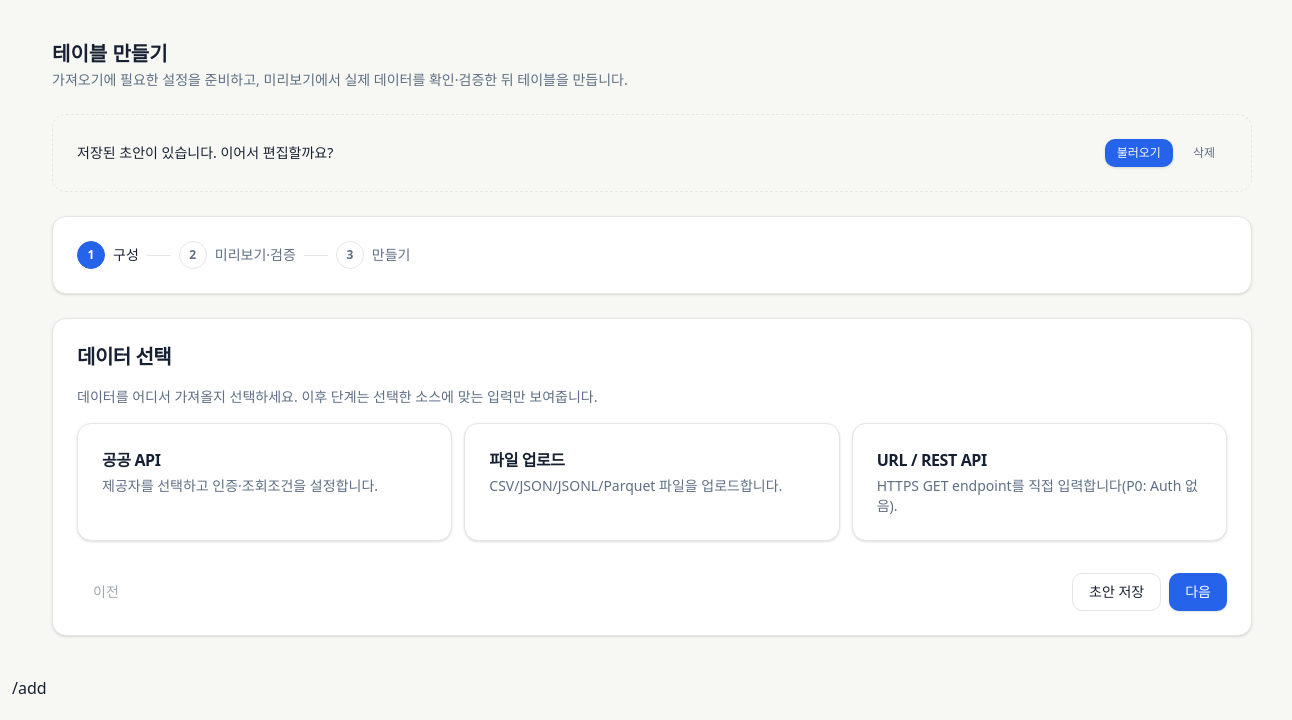
Test case: one table creation flow (#534) › a corrupt draft is removed without taking the other one with it (#589) › an Ask KPubData draft that is not JSON is cleared once opened and not offered again
This screenshot has width=1292, height=720.
Click the button "불러오기" at (1139, 153), box [1105,139,1173,167]
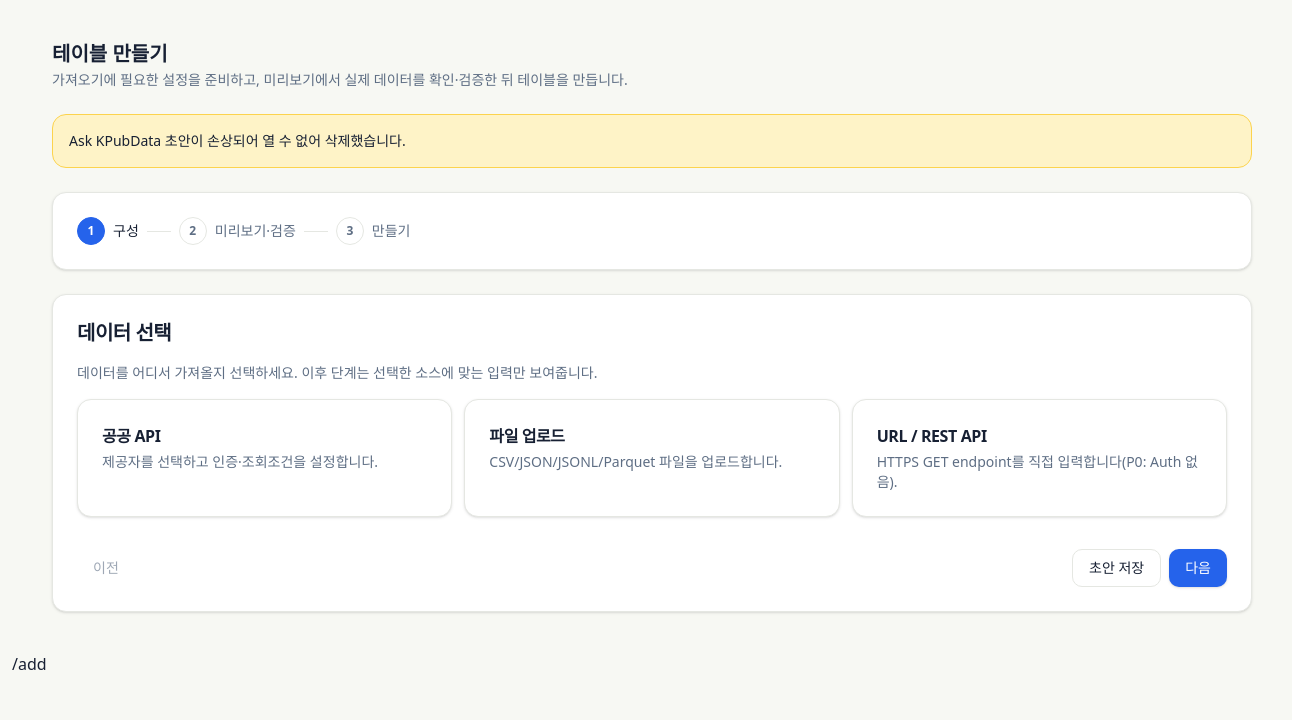
Expected: the text "Ask KPubData 초안이 손상되어 열 수 없어 삭제했습니다." is shown, [69,131,406,150]
Expected: the button "불러오기" is gone
